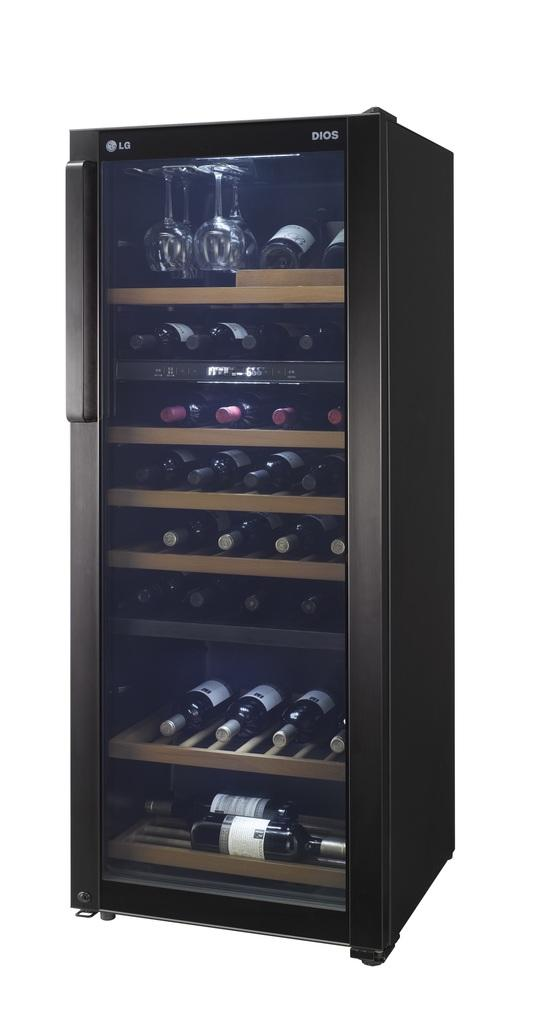handle: (66, 162, 91, 421)
